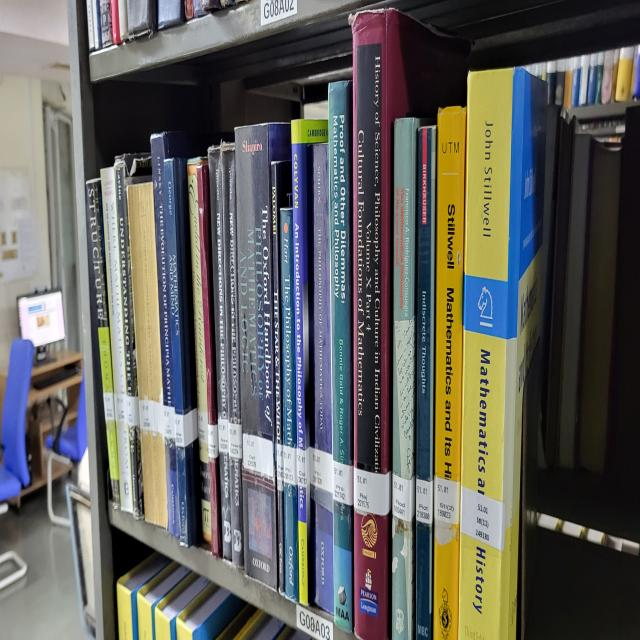Book: (350, 8, 470, 639), (459, 68, 546, 639), (235, 122, 291, 587), (291, 119, 329, 606), (434, 106, 466, 639), (150, 133, 189, 536), (391, 119, 421, 639), (161, 157, 200, 547), (128, 181, 168, 528), (329, 81, 354, 630), (115, 154, 150, 517), (86, 179, 120, 506), (415, 127, 436, 639), (101, 168, 132, 511), (312, 143, 334, 614), (196, 162, 222, 557), (221, 146, 244, 565), (209, 146, 231, 560), (188, 162, 211, 541), (271, 160, 291, 593), (280, 208, 299, 601)
Label: (128, 184, 168, 528), (460, 487, 505, 549), (354, 468, 391, 517), (242, 433, 274, 479), (434, 476, 460, 525), (392, 473, 415, 522), (332, 460, 354, 506), (139, 398, 165, 436), (175, 409, 198, 446), (314, 449, 332, 492), (416, 479, 432, 525), (296, 446, 310, 487), (282, 444, 296, 484), (229, 422, 242, 460), (126, 395, 140, 427), (114, 392, 128, 422), (218, 417, 229, 455), (208, 425, 219, 460), (198, 409, 208, 446), (276, 444, 284, 490), (164, 406, 175, 438), (104, 392, 115, 422)
